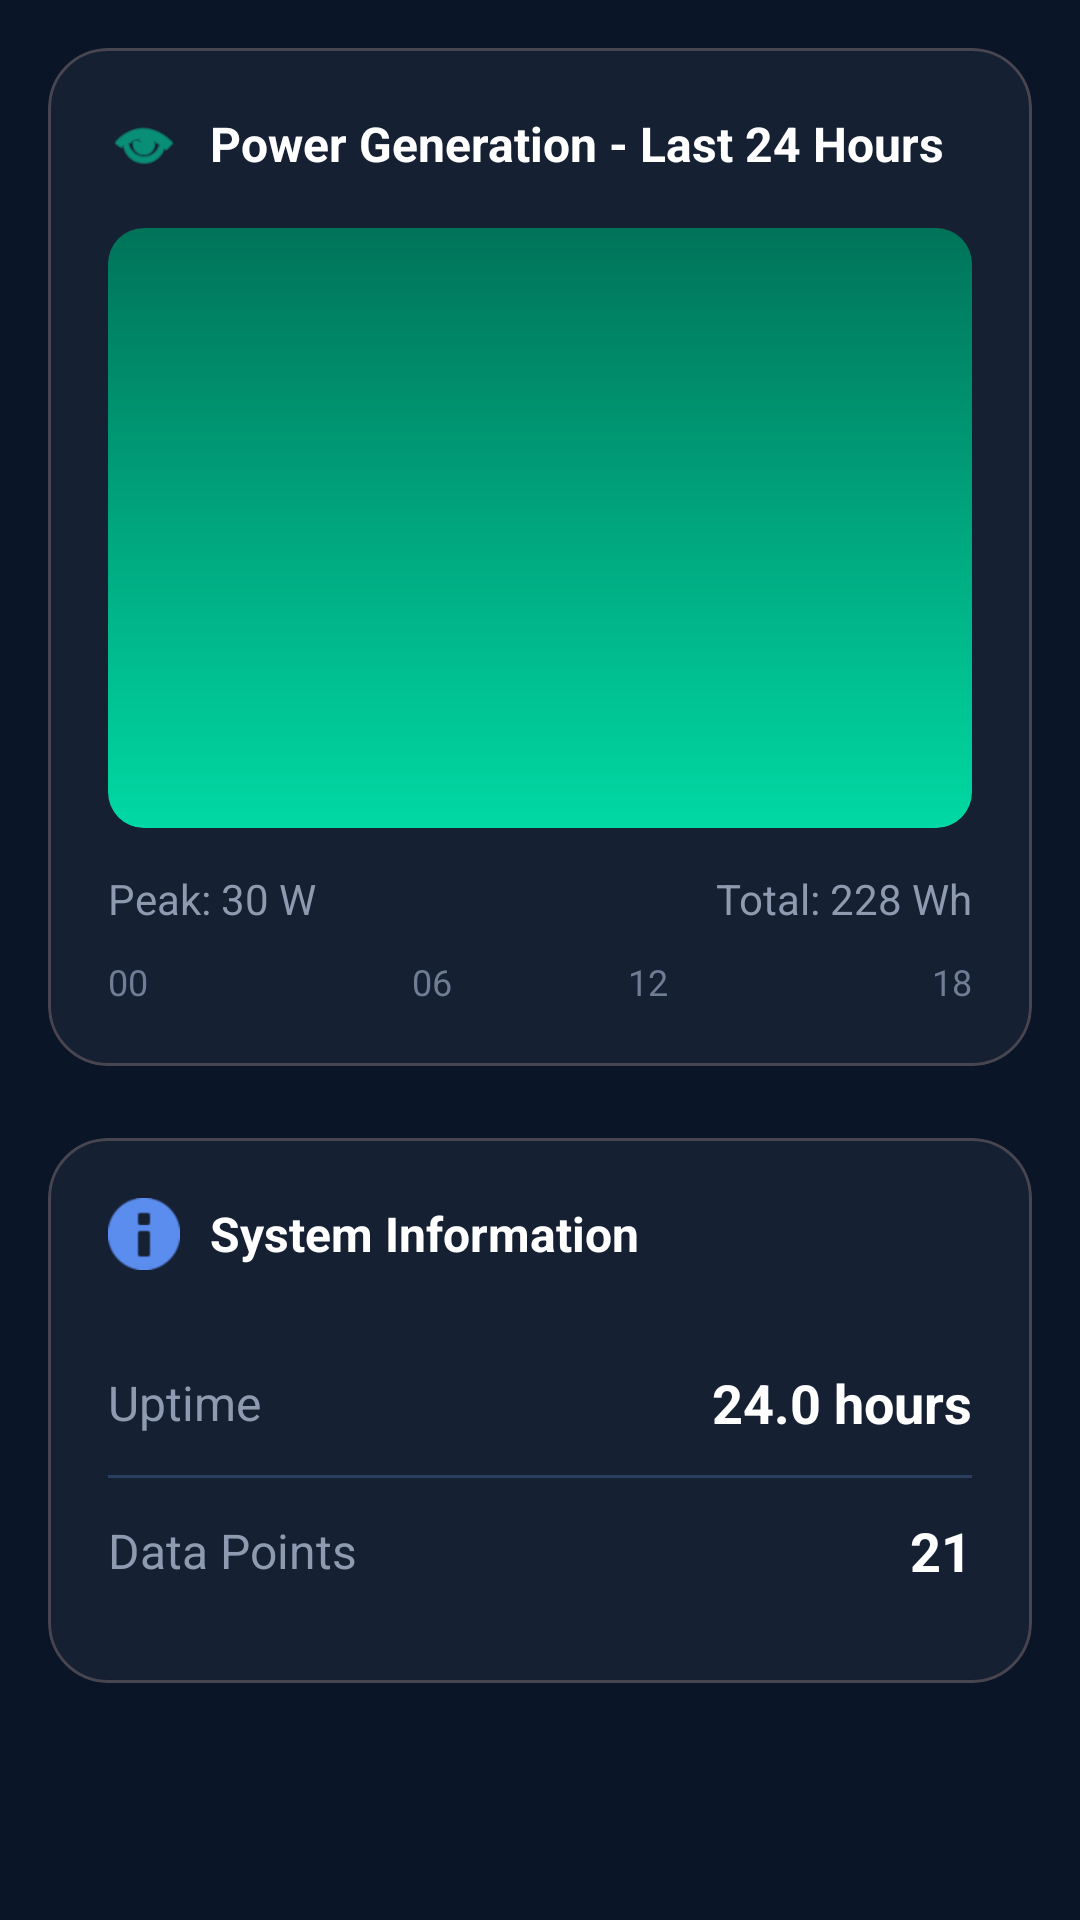

Named icons in this screenshot (1080 × 1920) and their centers, (x,y):
view: (144,145)
